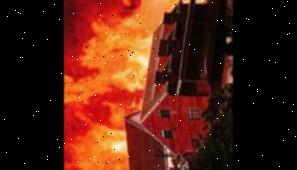fire: (63, 0, 143, 112), (64, 114, 125, 170), (145, 0, 187, 15)
